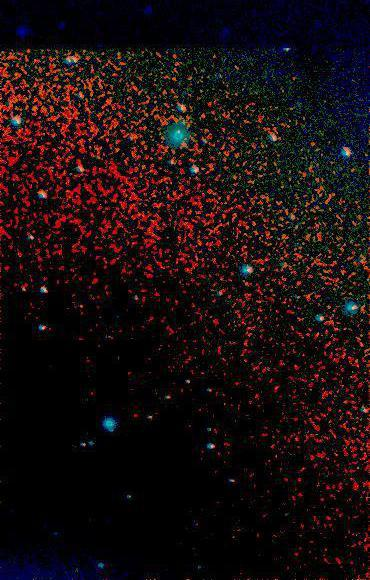star: (63, 559, 93, 580)
